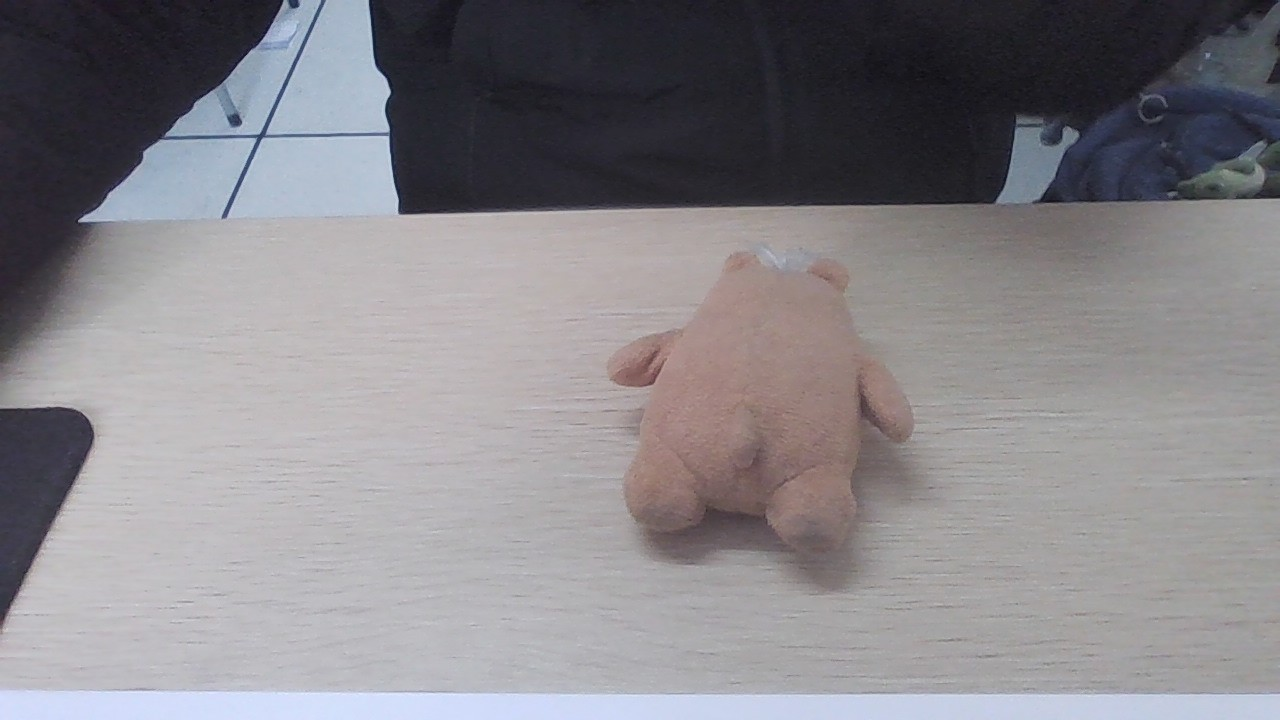KHS-doll: (642, 275, 880, 533)
